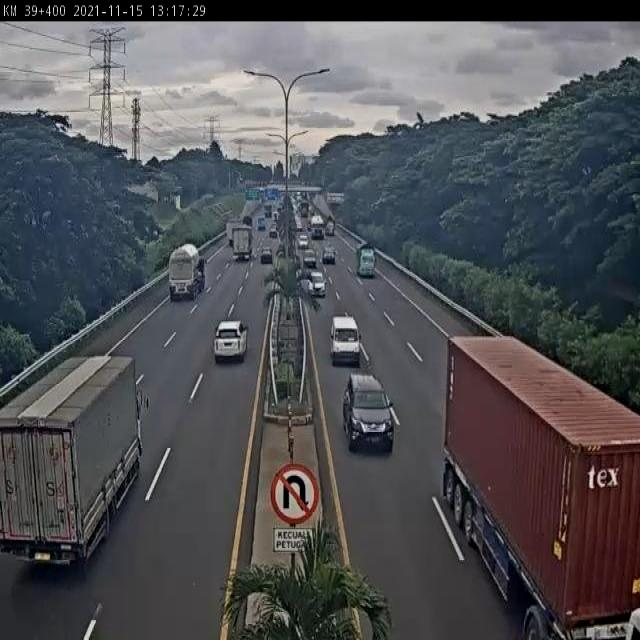Car: (342, 373, 396, 452), (211, 320, 248, 362), (308, 272, 328, 300), (302, 249, 318, 268), (322, 245, 337, 264), (260, 247, 273, 262), (297, 234, 310, 249), (269, 226, 277, 238)
Truck: (437, 326, 640, 640), (0, 351, 153, 578), (168, 241, 206, 303), (232, 224, 252, 263), (356, 241, 377, 277), (310, 214, 326, 242), (227, 218, 240, 248)
Van: (329, 314, 363, 367)
